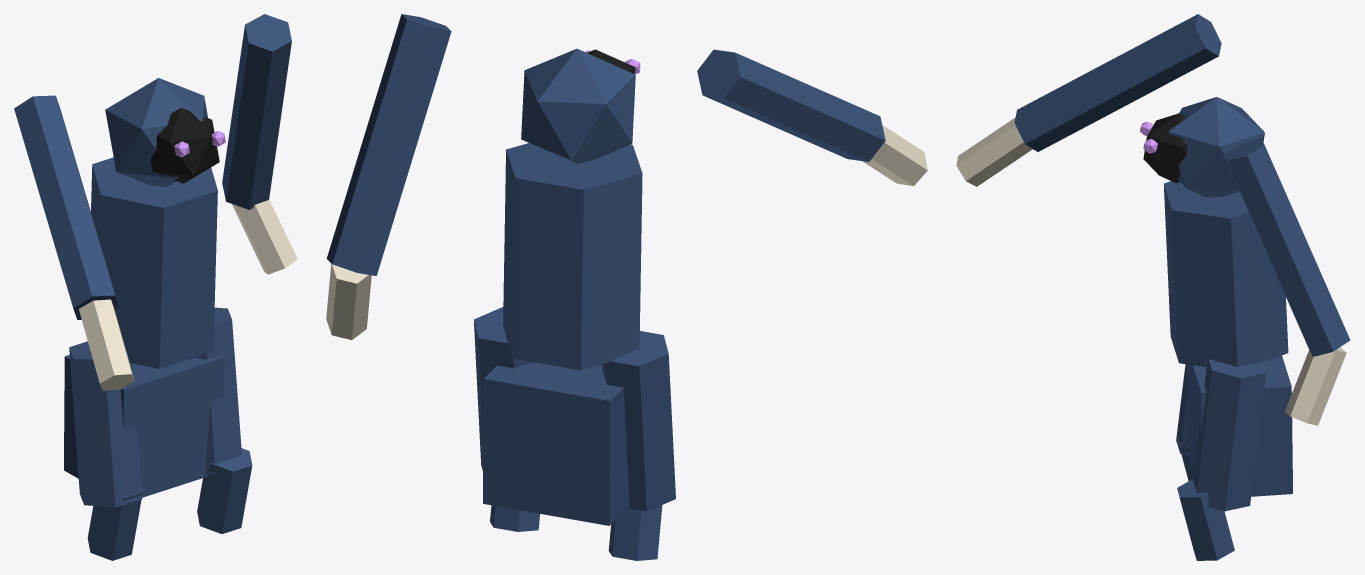
The model's file is npcpose_wraith_attack_07.glb.
The picture shows the model from 3 angles, left to right: view 1: azimuth 30°, elevation 25°; view 2: azimuth 150°, elevation 25°; view 3: azimuth 270°, elevation 25°; orthographic projection. The views are drawn at different scales.
Parts seen in each view (by area): view 1: npcpose; view 2: npcpose; view 3: npcpose.
Part boxes in pixels (box(x1,y1,x2,y2)): npcpose: box(14, 14, 297, 560); npcpose: box(326, 14, 927, 560); npcpose: box(956, 14, 1350, 560).
Bounding box in the file's own units: 0.889 × 1.09 × 0.8645.
